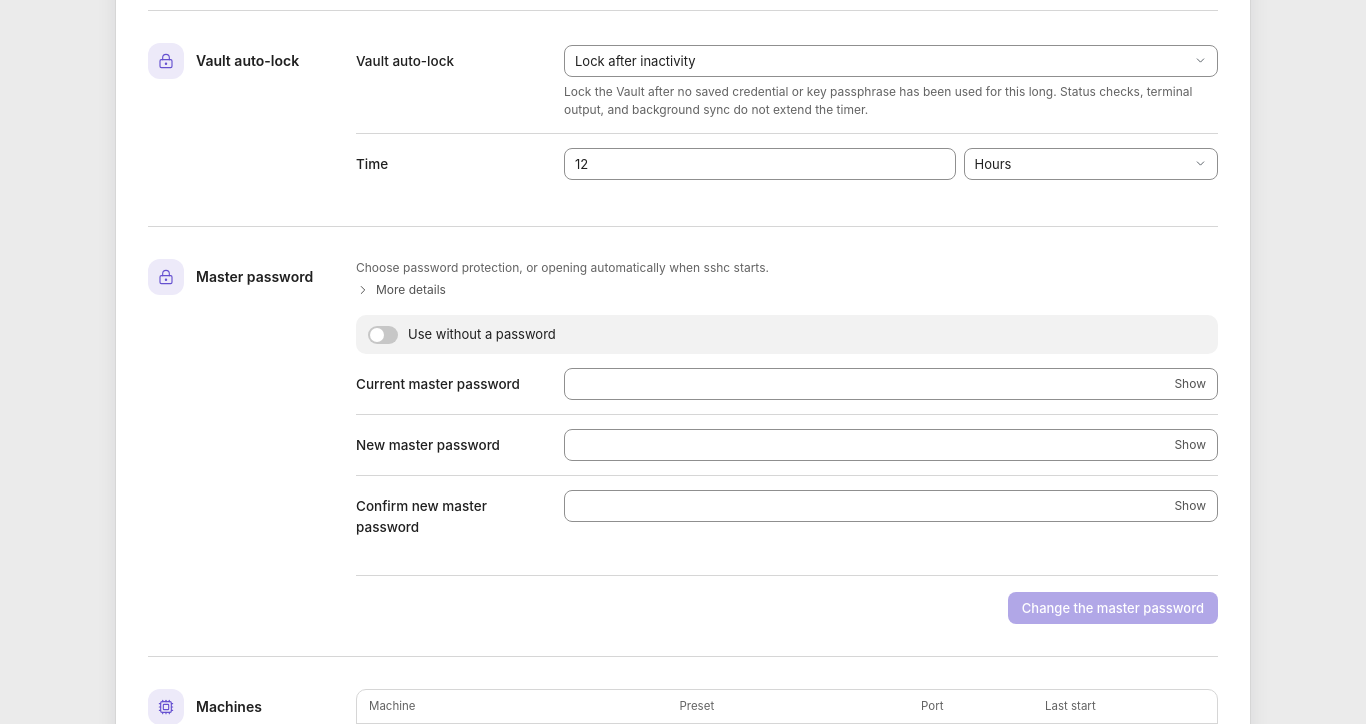
Test: SettingsPanel › validates, changes the local master password, and clears every field
(page scrolled)
Expected: the element "Master password" is shown, 148,227 -> 1218,657
Type "the old one is long" into the password field named "Current master password" at coordinates (891, 384), box 564,368 -> 1218,400
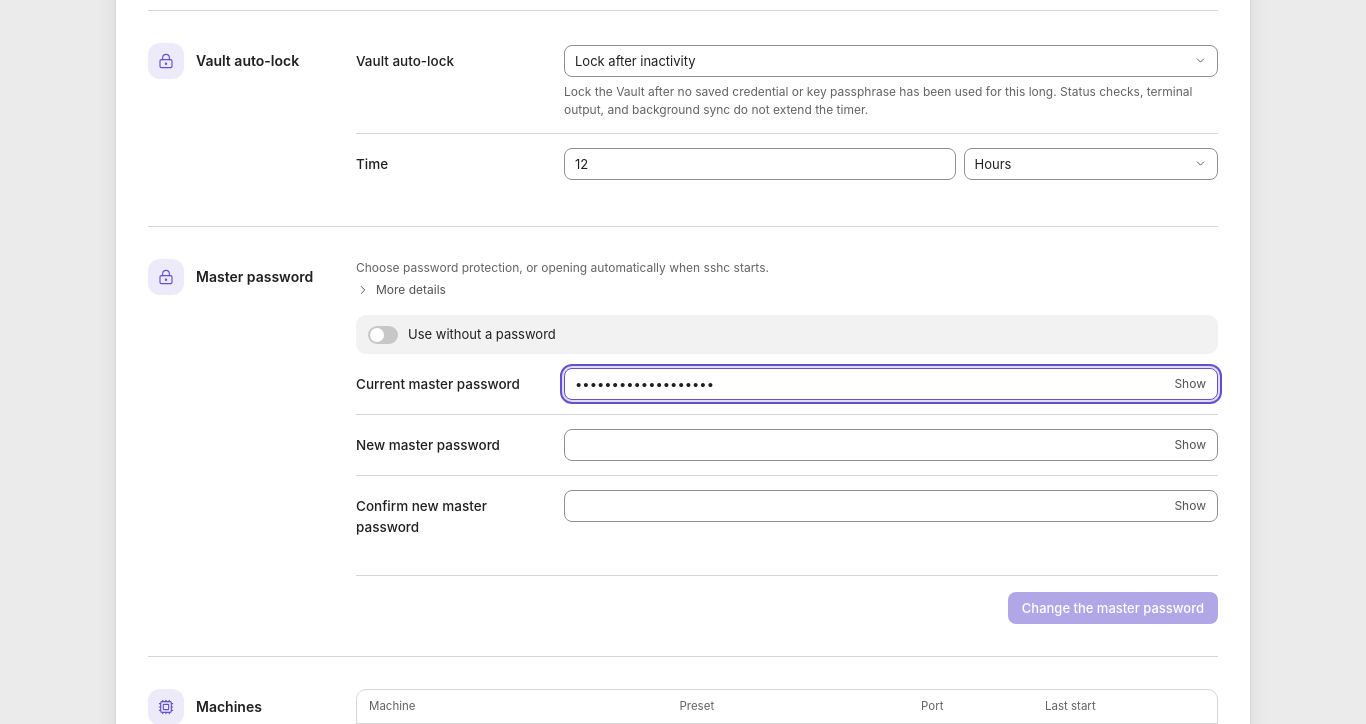
Type "the new one is long" into the password field named "New master password" at coordinates (891, 445), box 564,429 -> 1218,461
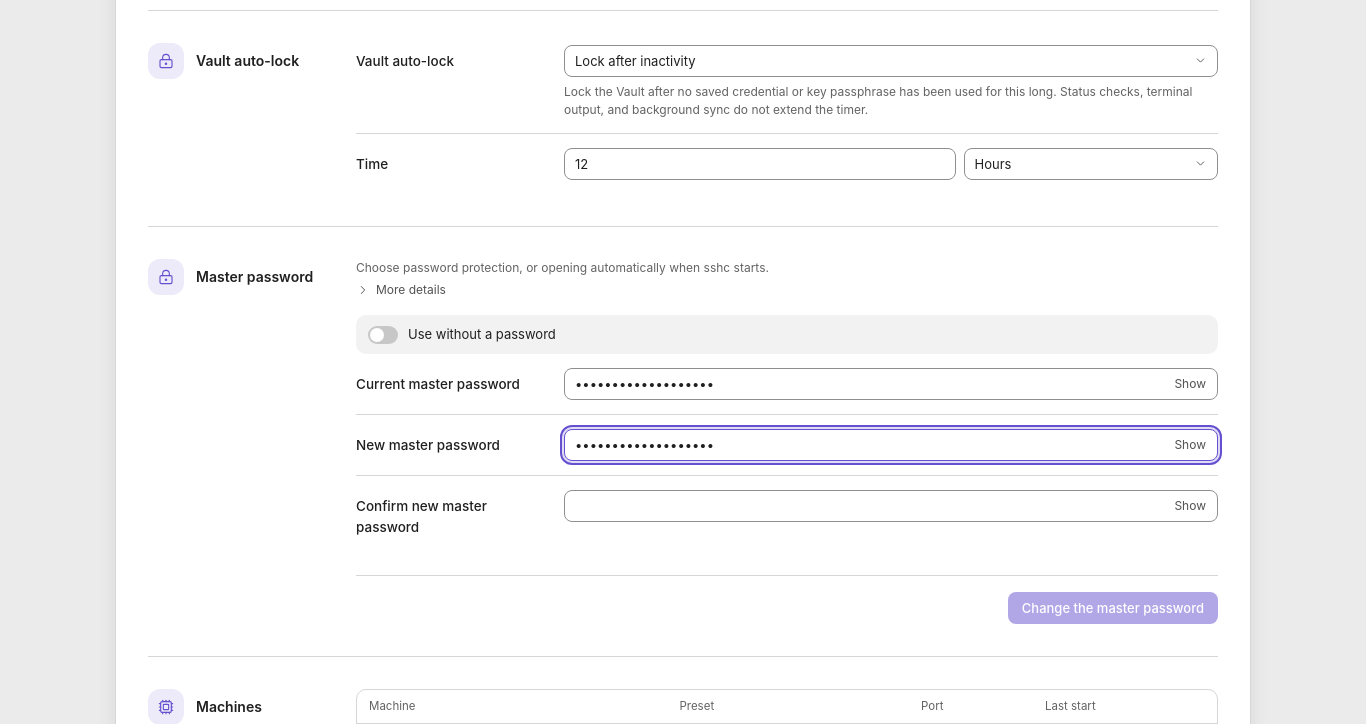
Expected: the button "Change the master password" is disabled, 1008,592 -> 1218,624
Type "the new one is long" into the password field named "Confirm new master password" at coordinates (891, 506), box 564,490 -> 1218,522
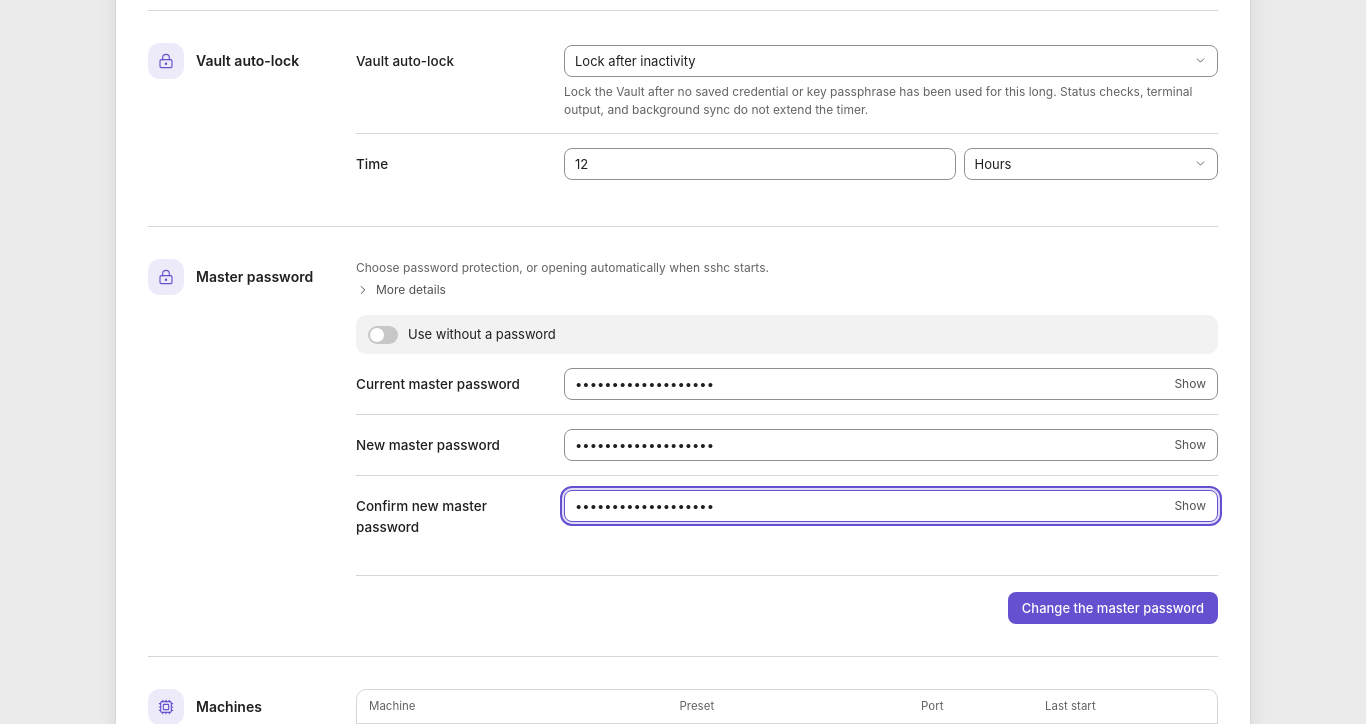
Click the button "Change the master password" at coordinates (1113, 608), box 1008,592 -> 1218,624
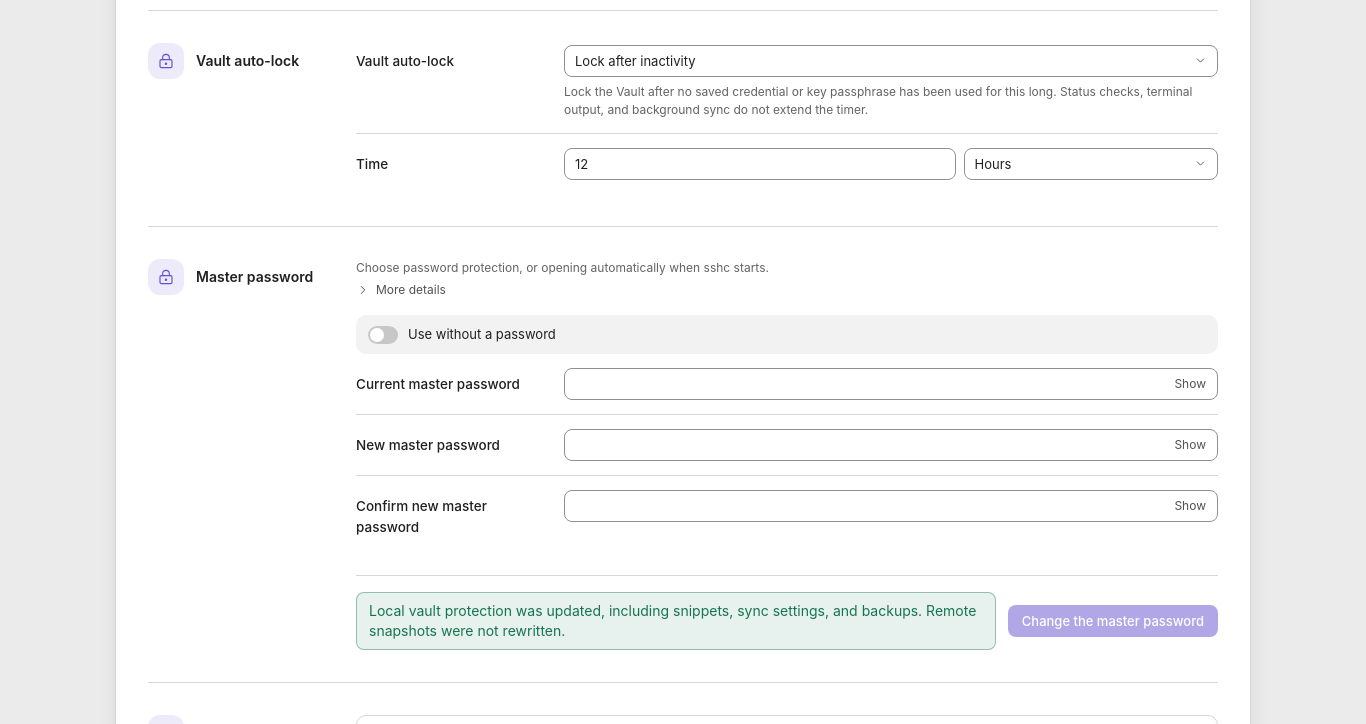
Expected: the text "remote snapshots were not rewritten" is shown, 369,602 -> 976,639
Expected: the password field named "Current master password" is empty, 564,368 -> 1218,400
Expected: the password field named "New master password" is empty, 564,429 -> 1218,461
